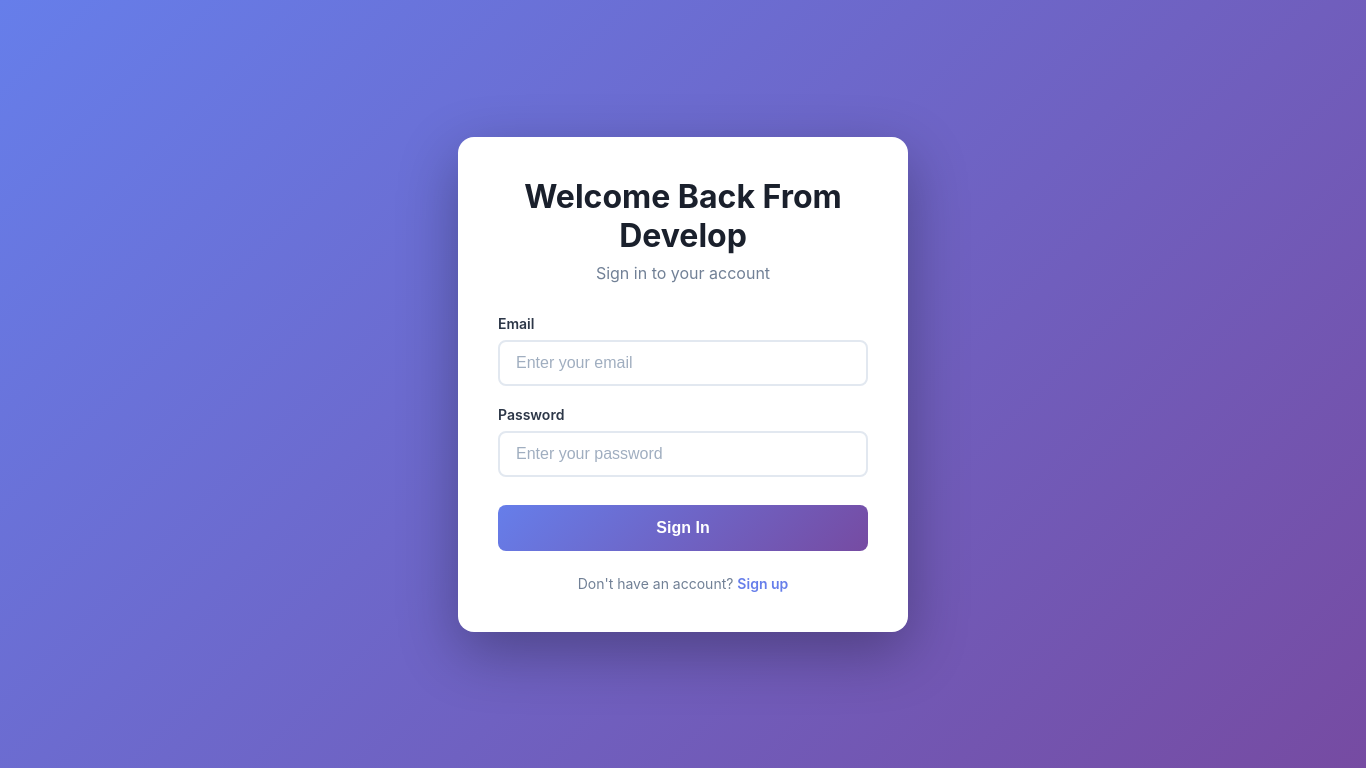
Login Component › should show error when fields are empty
The width and height of the screenshot is (1366, 768).
Click the button "Sign In".
click(683, 528)  # box [498,504,868,550]
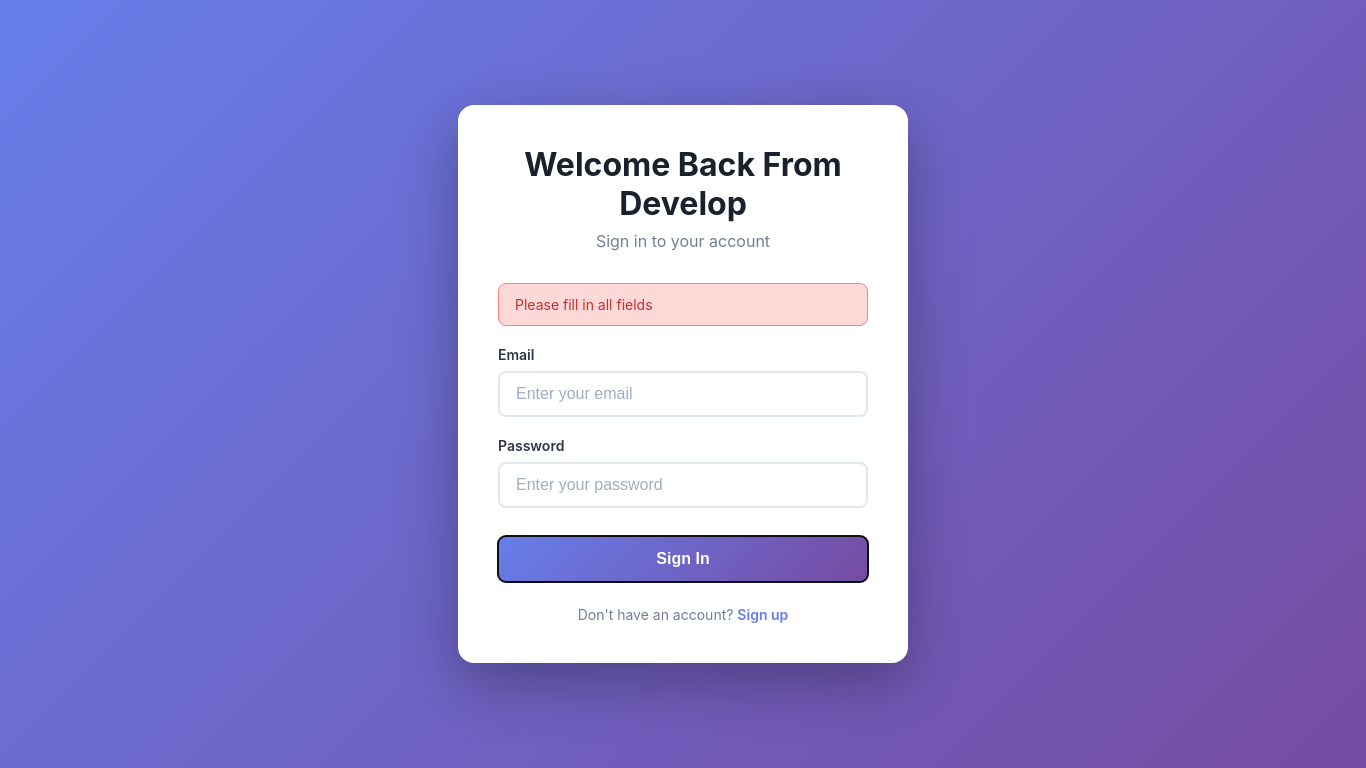
Now the text "Please fill in all fields" is shown, box [498,283,868,326]
